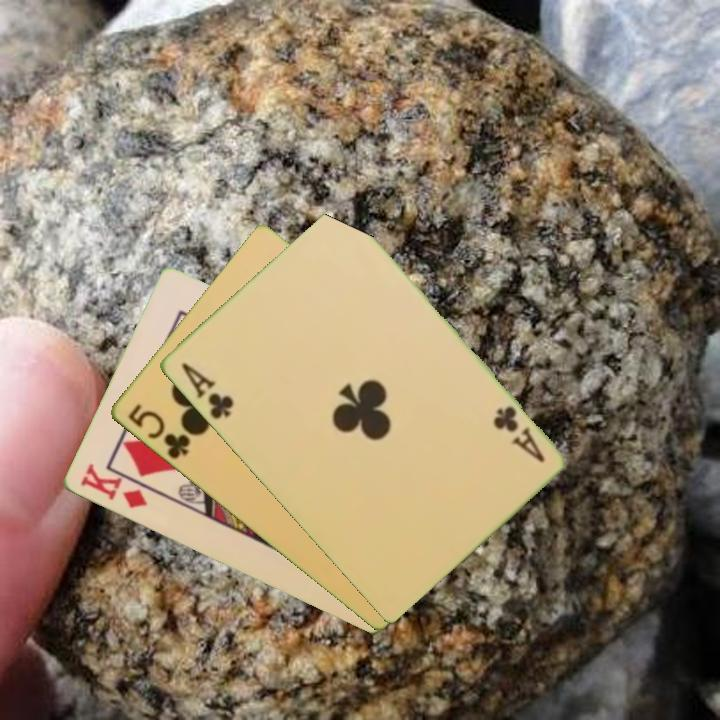5c: (124, 400, 193, 463)
Ac: (177, 359, 236, 423), (489, 402, 547, 466)
Kd: (76, 459, 150, 512)
